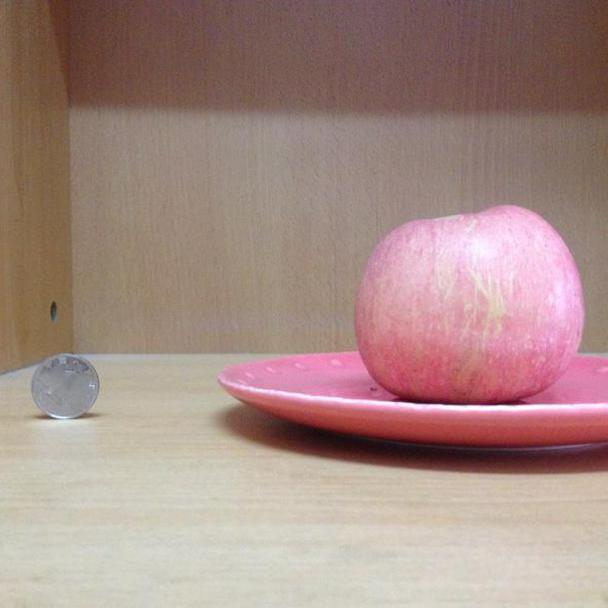apple: (353, 204, 589, 404)
